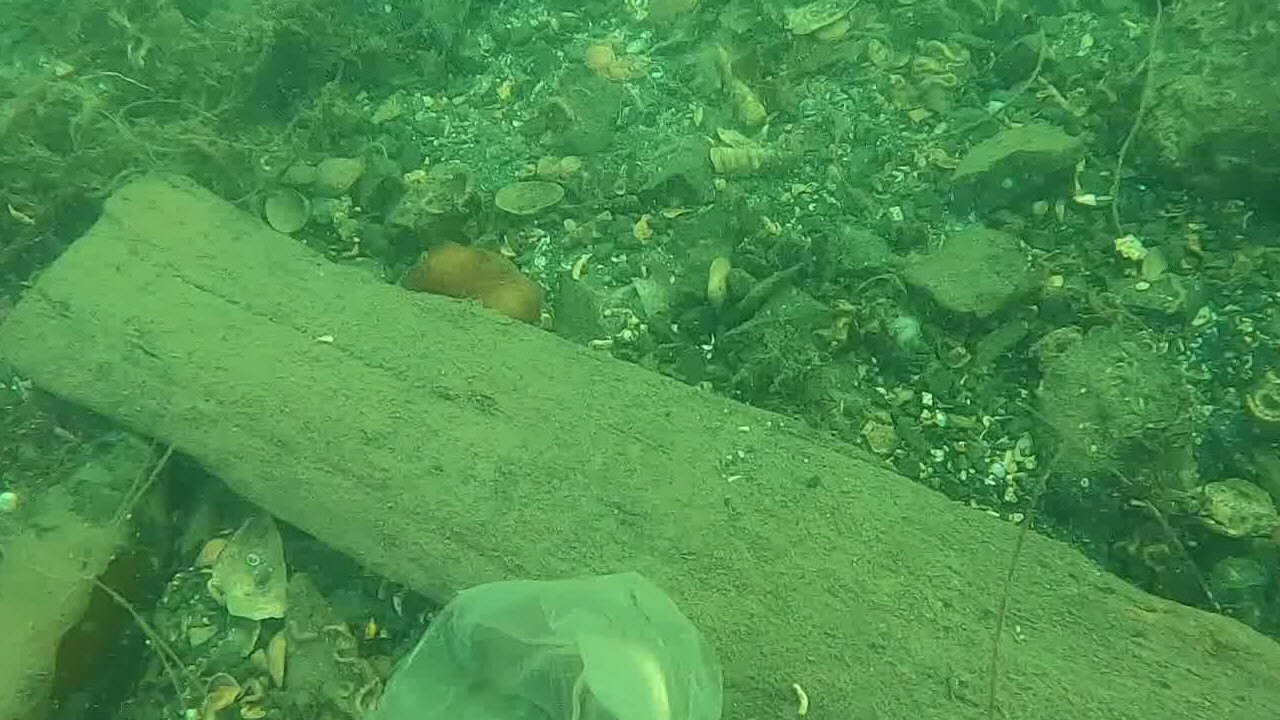wood: (0, 165, 1280, 719)
